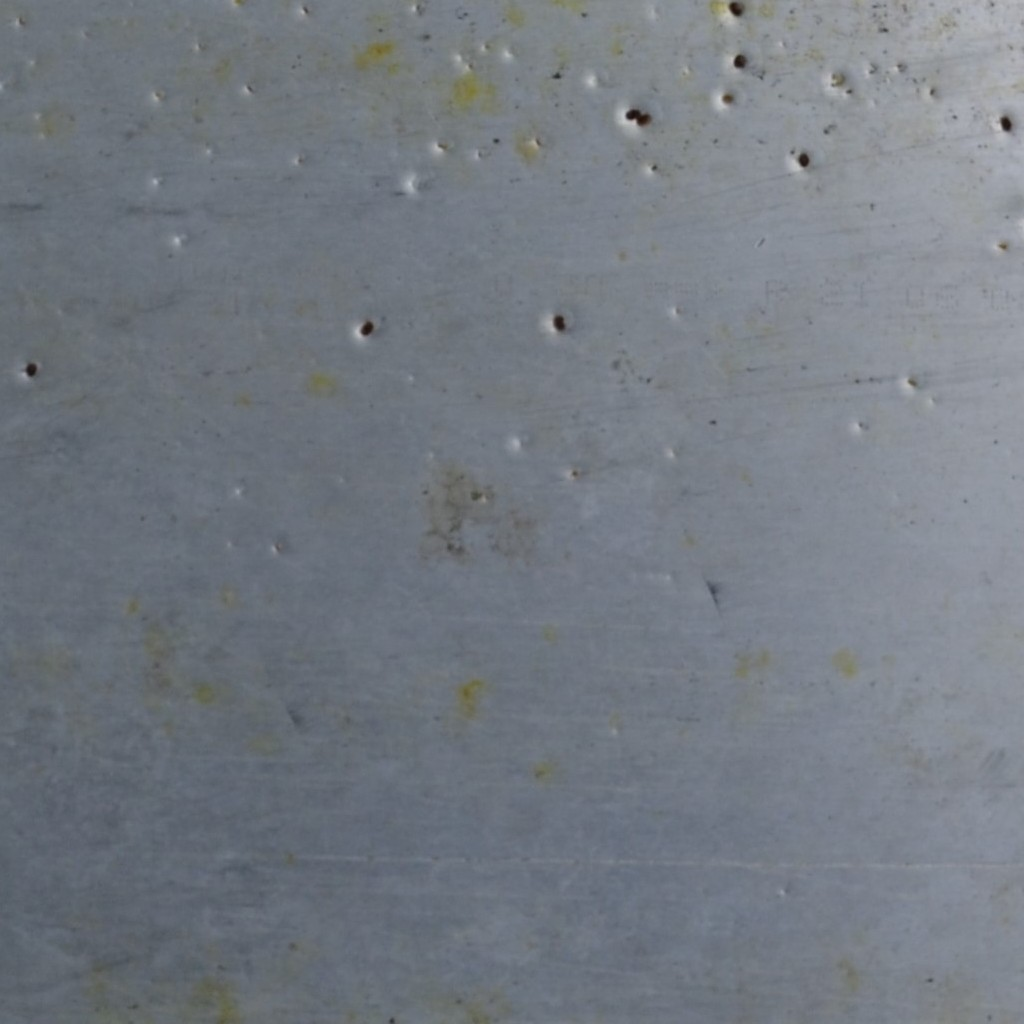varroa: (996, 111, 1013, 133), (357, 319, 375, 339), (731, 49, 747, 71), (553, 313, 569, 334), (726, 1, 746, 17), (22, 361, 38, 380), (795, 149, 811, 166), (624, 106, 644, 119), (637, 112, 651, 124)
